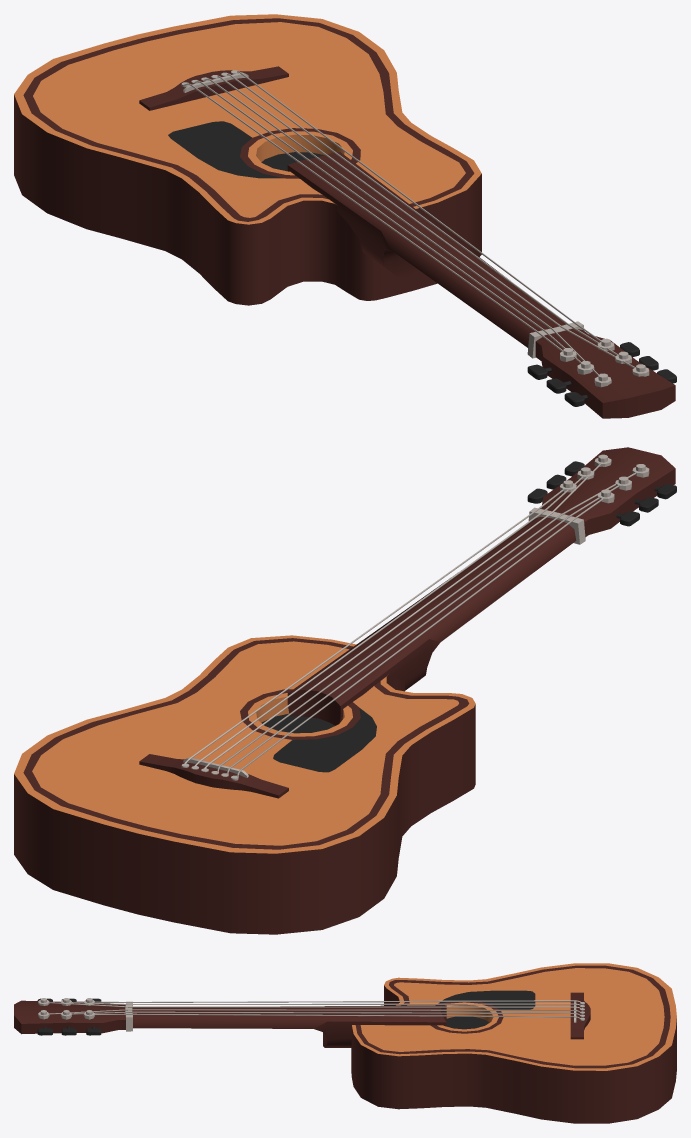
File: AcousticGuitar_01.fbx
3 renders of one model, top to bottom at view 1: azimuth 30°, elevation 25°; view 2: azimuth 150°, elevation 25°; view 3: azimuth 270°, elevation 25°, orthographic. The views are drawn at different scales.
Parts seen in each view (by area): view 1: AcousticGuitar_01; view 2: AcousticGuitar_01; view 3: AcousticGuitar_01.
Boxes of the visible parts, x1=… form: AcousticGuitar_01: x1=14, y1=14, x2=676, y2=418; AcousticGuitar_01: x1=14, y1=447, x2=676, y2=934; AcousticGuitar_01: x1=14, y1=963, x2=676, y2=1123.
Size of the model in its own units: 0.4688 by 0.1313 by 1.22.
